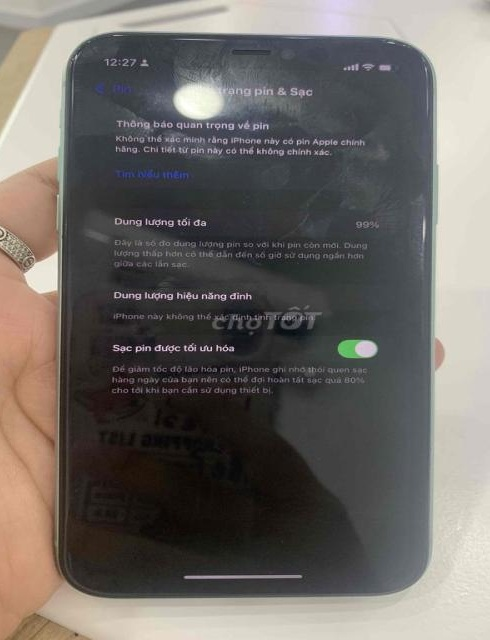scratch: (247, 169, 336, 271)
